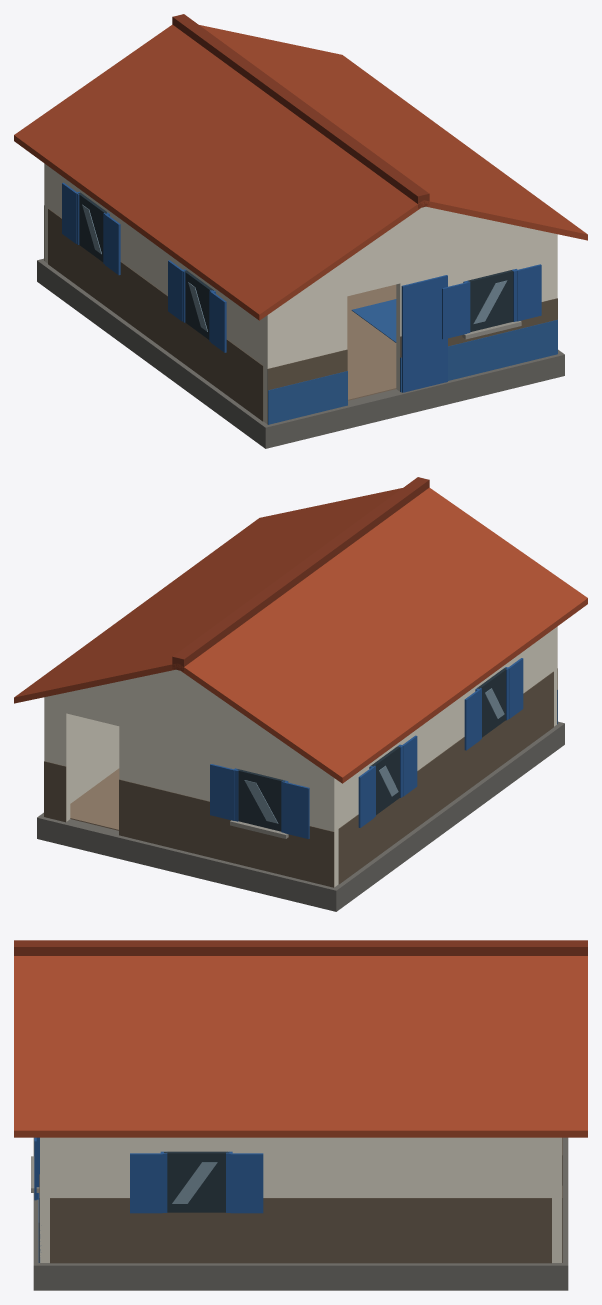
Rendered from casa_colono_b.glb.
3 renders of one model, top to bottom at view 1: azimuth 30°, elevation 25°; view 2: azimuth 150°, elevation 25°; view 3: azimuth 270°, elevation 25°, orthographic. The views are drawn at different scales.
Visible parts, largest first — view 1: casa_colono_b; view 2: casa_colono_b; view 3: casa_colono_b.
Part boxes in pixels (bbox=[...]): casa_colono_b: bbox=[14, 14, 587, 448]; casa_colono_b: bbox=[14, 477, 587, 911]; casa_colono_b: bbox=[14, 940, 587, 1290].
Bounding box in the file's own units: 6.8 × 4.42 × 8.8.
